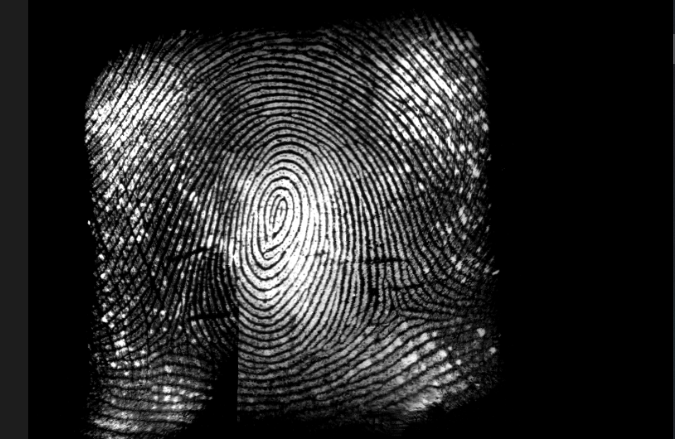deltas: (148, 301, 212, 357), (367, 280, 424, 337)
nucleo: (257, 186, 305, 238)
